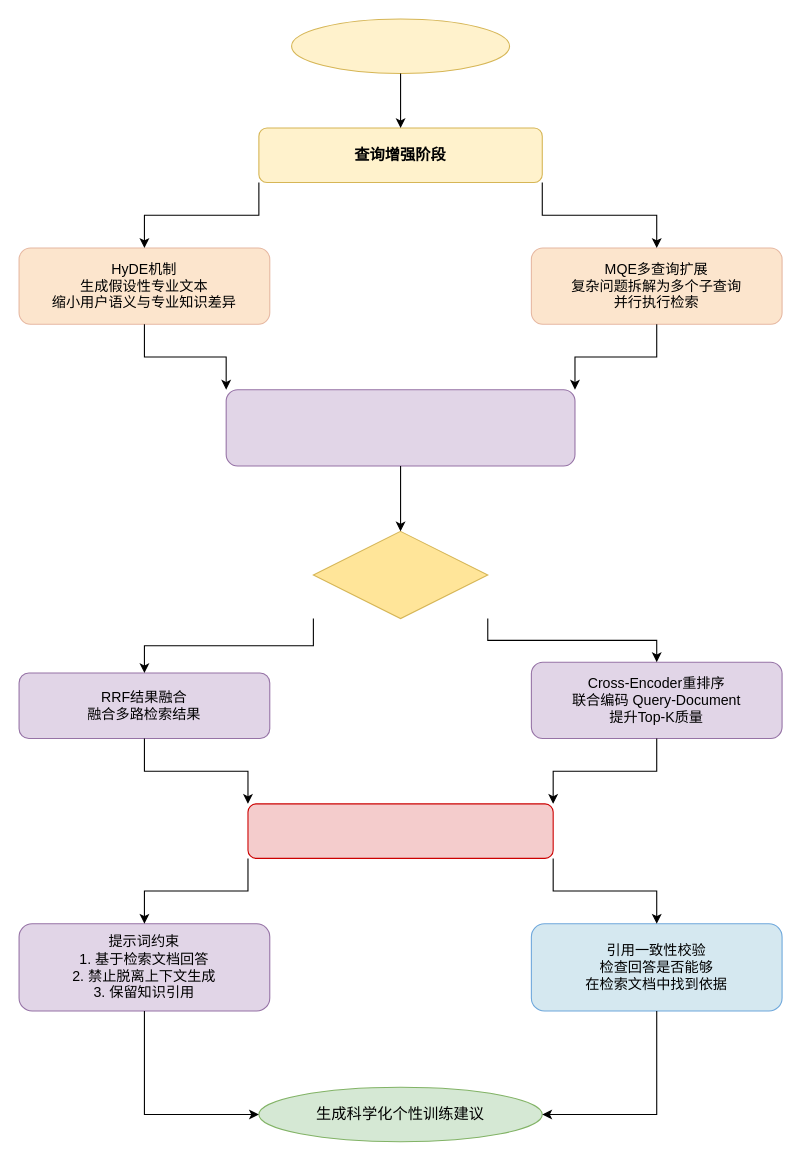
Some shapes in this 801 by 1161 pixel diagram are drawn without their labels. The shapes that lost their labels are listed below. From the top down, each one's centre as x and y in pixels, then its label:
the point at 400,46: 用户训练问题输入
the point at 400,427: Memory-Aware Retrieval 提取长期记忆状态 训练目标 / 伤病历史 / 疲劳状态
the point at 400,574: 向量检索
the point at 400,830: 提示词约束生成阶段
